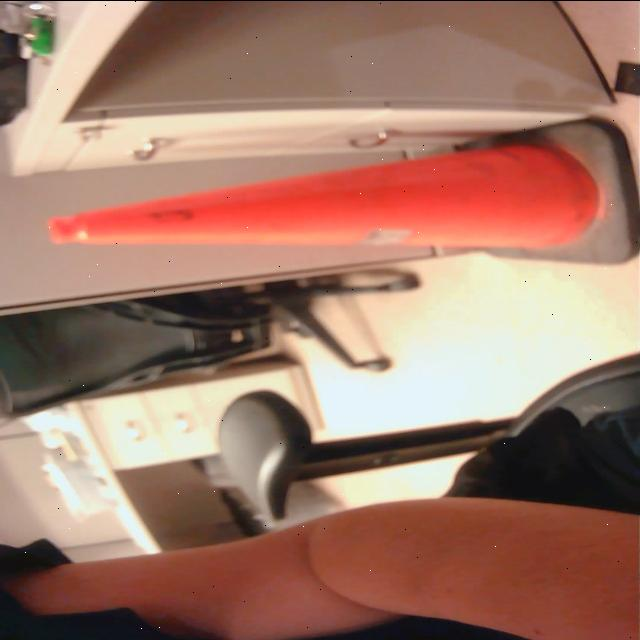traffic cone: (43, 113, 640, 269)
